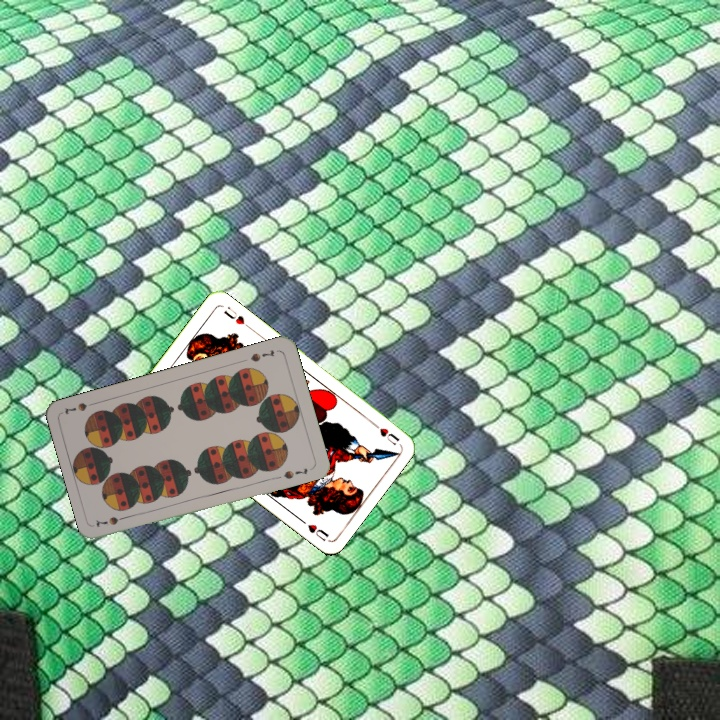HU: (367, 418, 402, 448)
S7: (247, 346, 277, 364), (105, 511, 132, 528)
